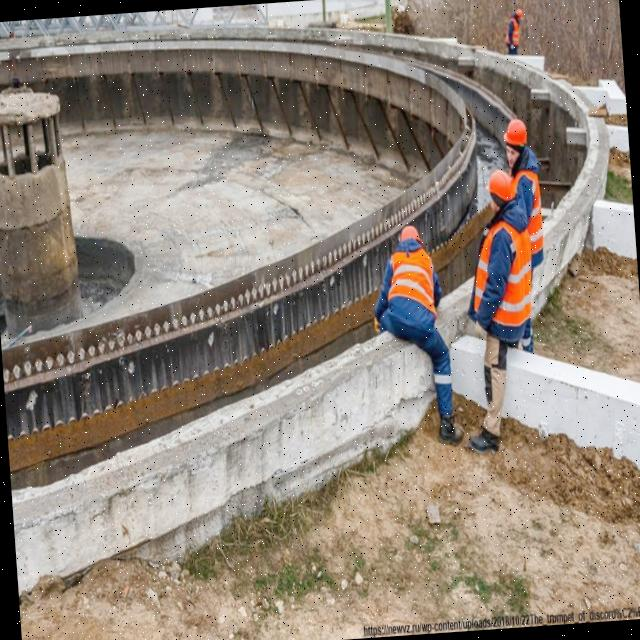Helmet: (485, 169, 517, 210), (503, 119, 530, 154), (400, 226, 423, 246), (514, 8, 525, 24)
Jacket: (485, 210, 533, 330), (388, 247, 434, 307), (520, 162, 544, 255), (508, 20, 522, 47)
